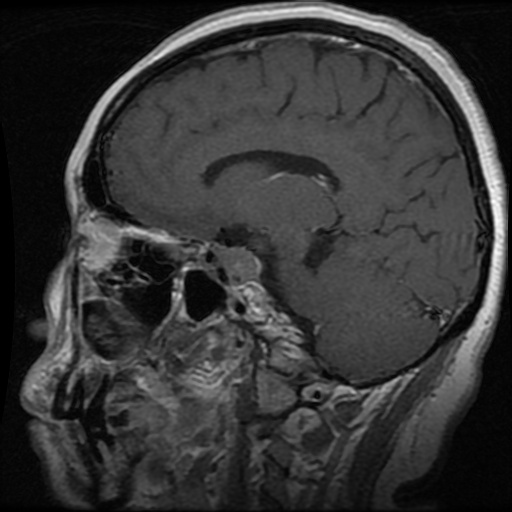pituitary: (207, 242, 261, 286)
